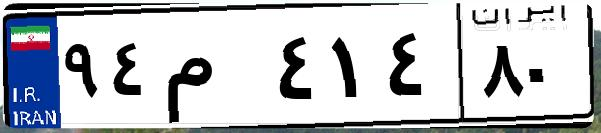0: (525, 38, 570, 115)
1: (330, 28, 385, 110)
4: (270, 28, 330, 110), (385, 28, 445, 110), (110, 28, 158, 98)
8: (475, 38, 525, 113)
9: (57, 26, 110, 100)
م: (158, 20, 270, 120)
